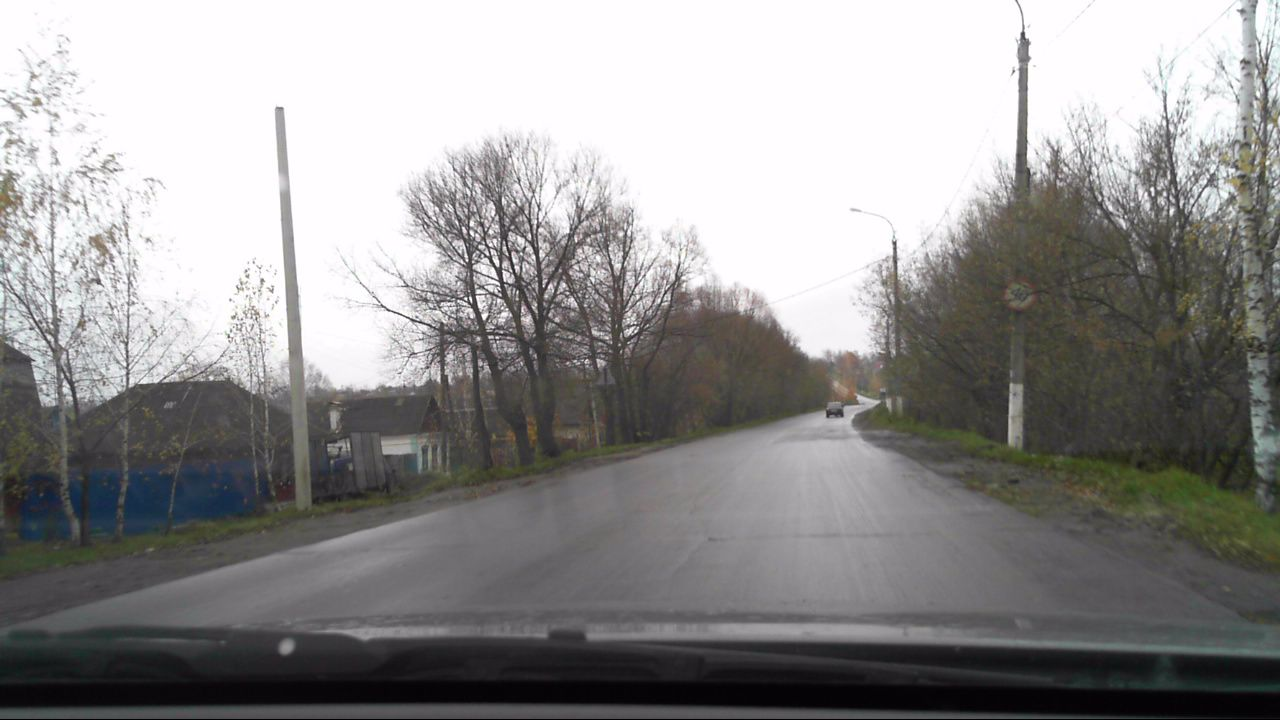speed_warning_40: (1000, 276, 1037, 313)
